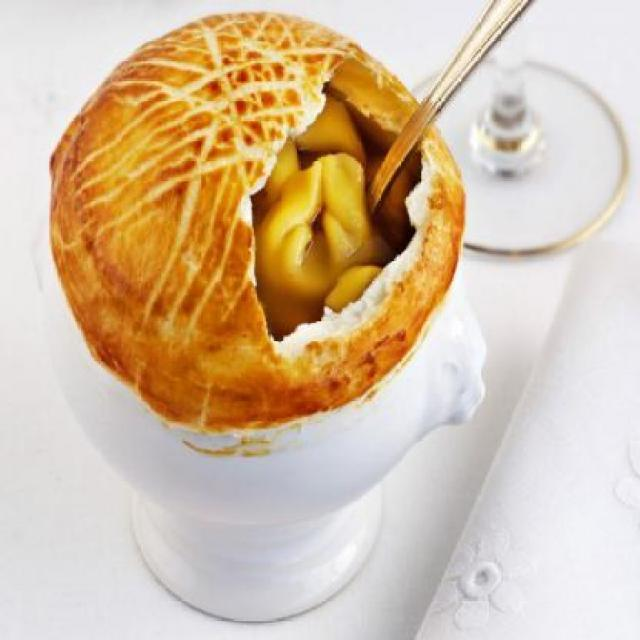Tortellini in broth: (252, 109, 386, 320)
